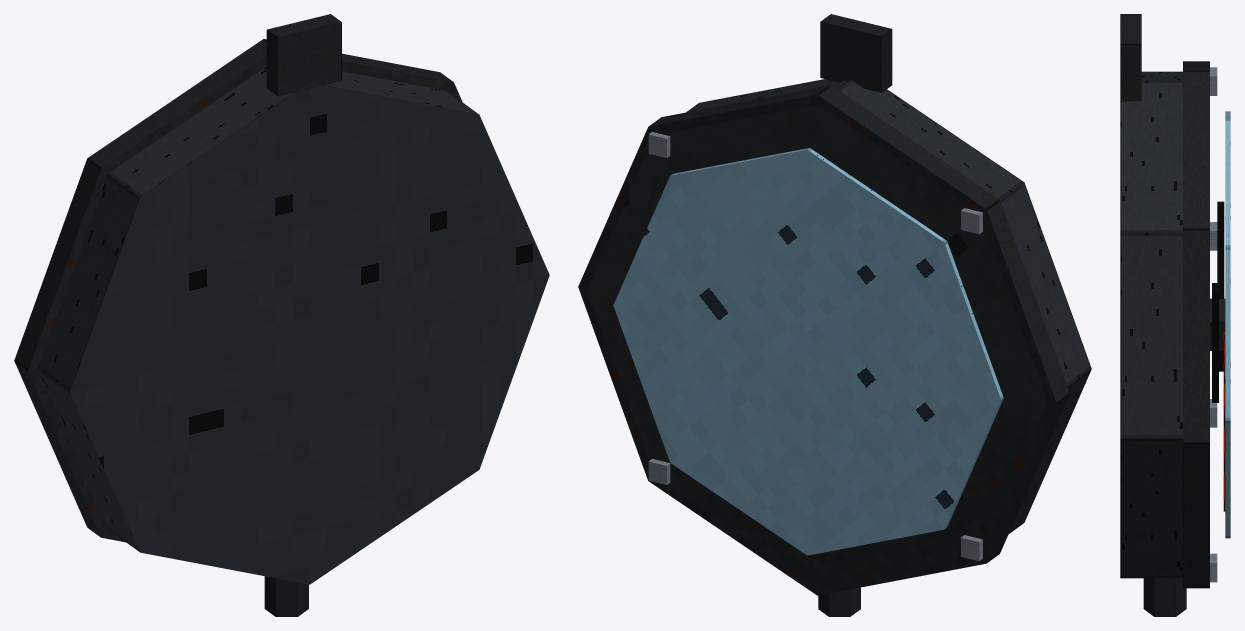
The model's file is wall_clock.glb.
3 views of the same model, side by side, from view 1: azimuth 30°, elevation 25°; view 2: azimuth 150°, elevation 25°; view 3: azimuth 270°, elevation 25° (orthographic). The views are drawn at different scales.
Visible parts, largest first — view 1: wall_clock; view 2: wall_clock; view 3: wall_clock.
Part boxes in pixels (<box>): wall_clock: <box>14,14,549,616</box>; wall_clock: <box>578,14,1091,616</box>; wall_clock: <box>1120,14,1230,616</box>.
Size of the model in its own units: 0.312 by 0.356 by 0.0615.
Materials: 1 (1 with a texture image).
